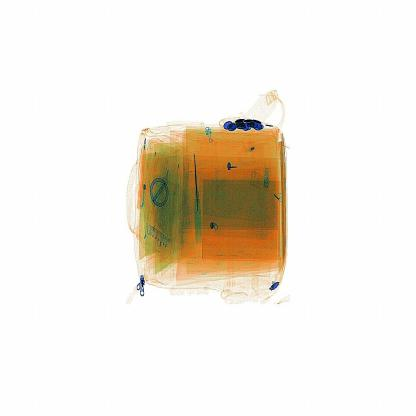wrench: (192, 151, 209, 241)
